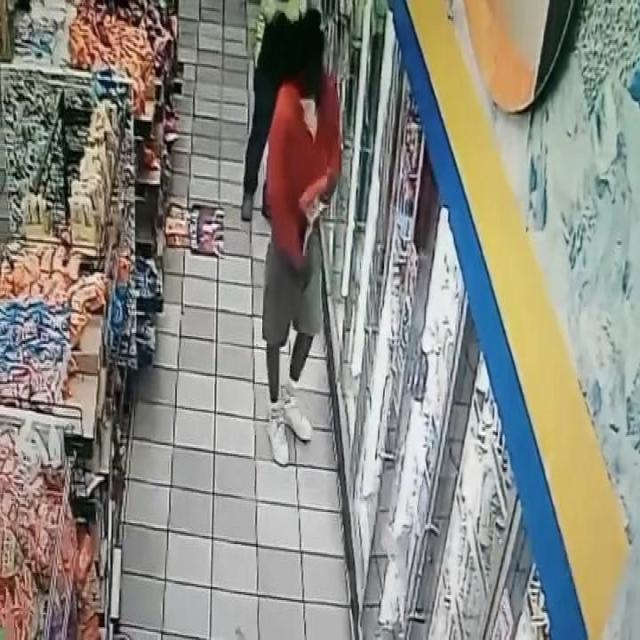Shoplifting: (238, 5, 378, 507)
